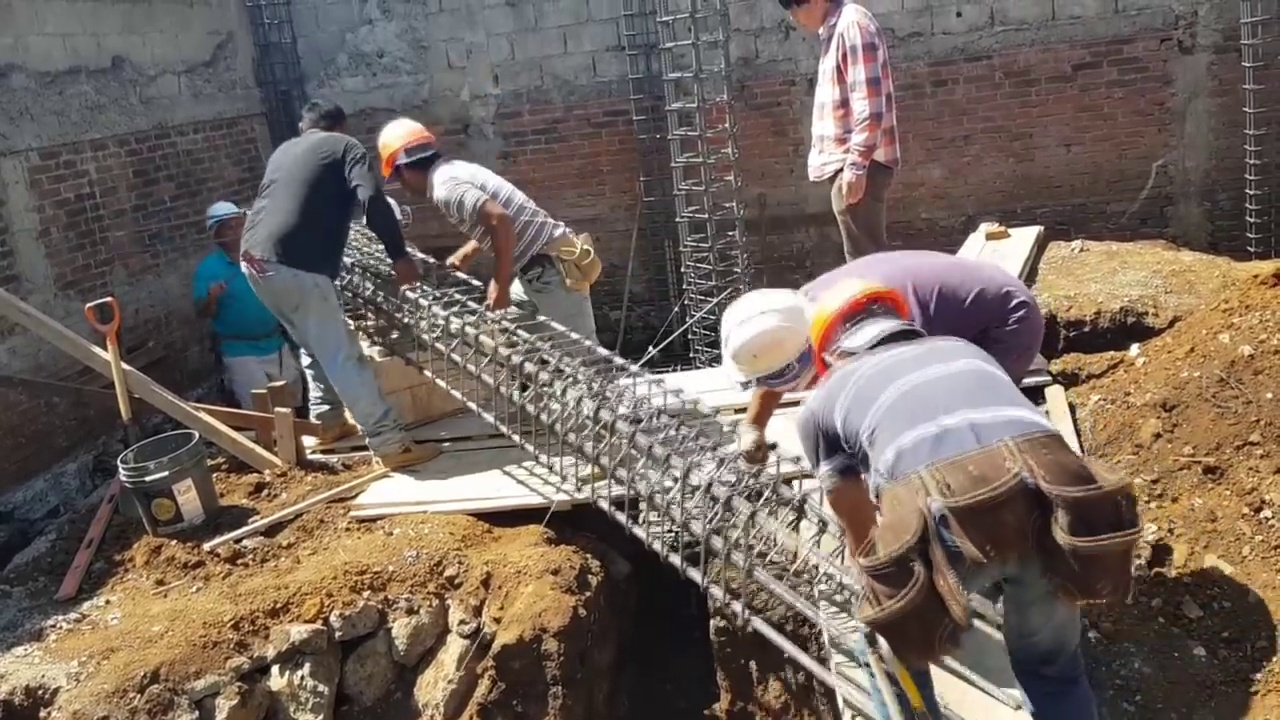helmet: (811, 278, 925, 372), (715, 287, 811, 382), (374, 120, 441, 178), (201, 196, 244, 234)
helmet-off: (778, 0, 846, 36), (294, 97, 343, 136)
helmet-on: (805, 278, 928, 382), (716, 288, 810, 399), (374, 121, 439, 197), (200, 196, 245, 259)
person: (800, 267, 1105, 720), (715, 249, 1048, 464), (243, 84, 401, 454), (372, 116, 601, 345), (777, 0, 901, 261), (193, 192, 300, 412)
